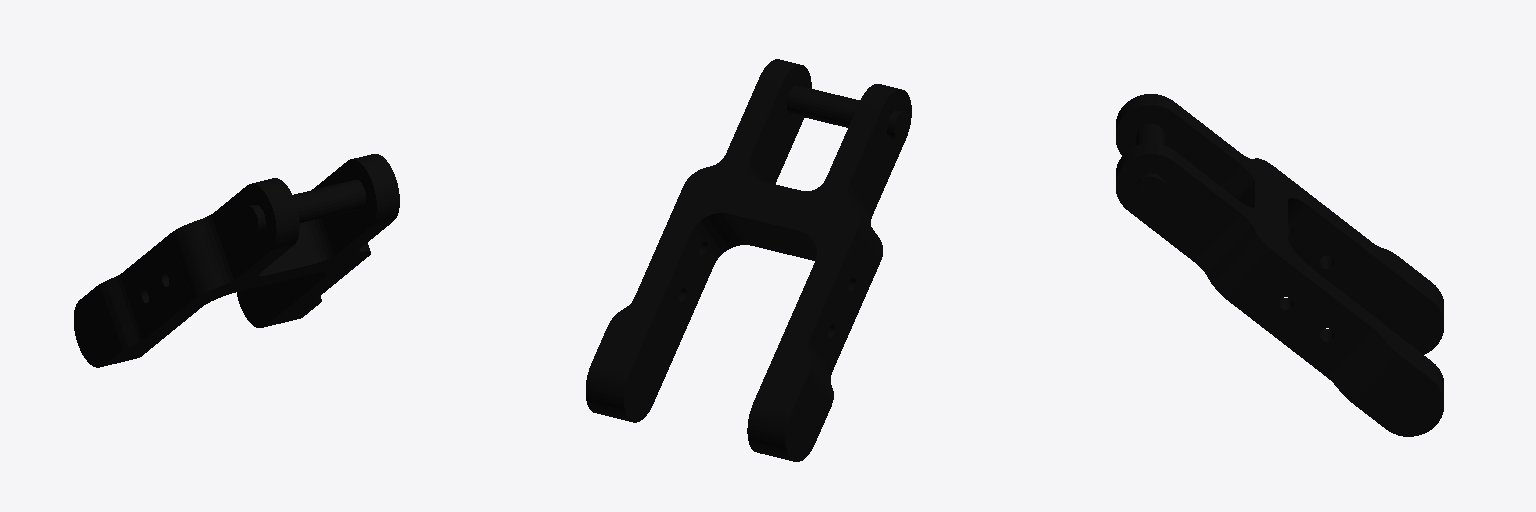
The model's file is robotiq_arg2f_85_inner_knuckle.obj.
The picture shows the model from 3 angles: view 1: azimuth 30°, elevation 25°; view 2: azimuth 150°, elevation 25°; view 3: azimuth 270°, elevation 25°; orthographic projection.
Parts seen in each view (by area): view 1: robotiq_arg2f_85_inner_knuckle; view 2: robotiq_arg2f_85_inner_knuckle; view 3: robotiq_arg2f_85_inner_knuckle.
Boxes of the visible parts, x1,y1,x2,y2 form: robotiq_arg2f_85_inner_knuckle: [74, 154, 399, 367]; robotiq_arg2f_85_inner_knuckle: [586, 59, 911, 461]; robotiq_arg2f_85_inner_knuckle: [1116, 94, 1443, 436].
Size of the model in its own units: 39 by 49.1 by 55.44.